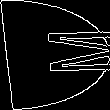M_W: (5, 30, 105, 80)
